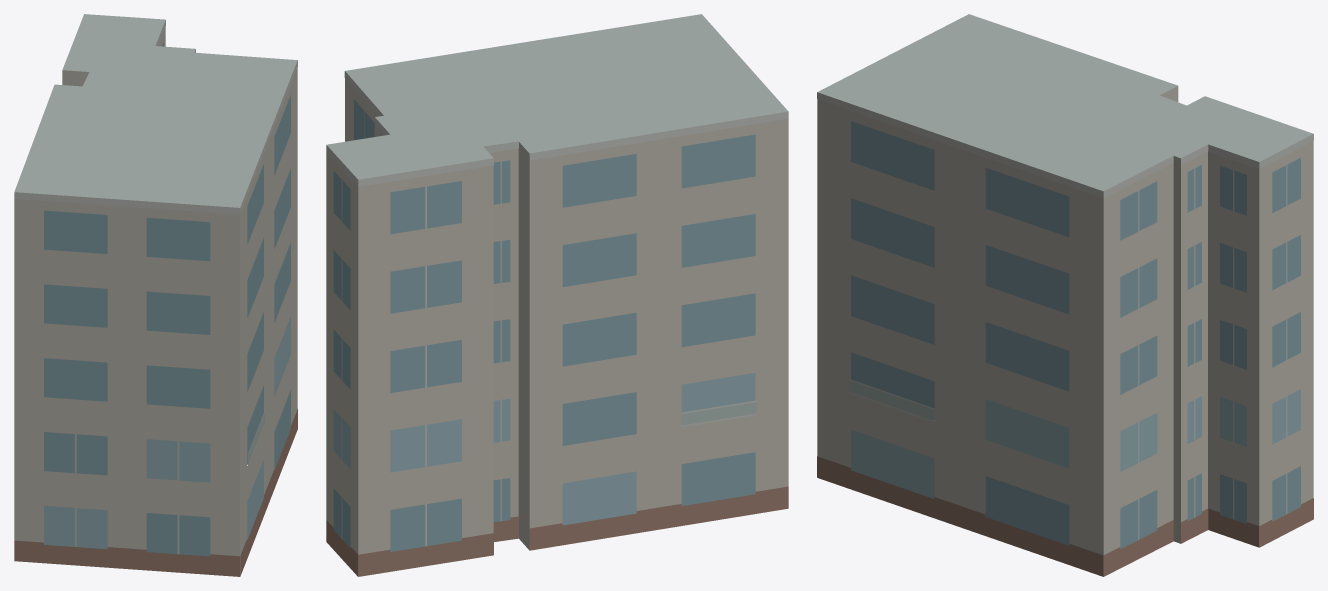
File: survey-upis-32964051.glb
3 views of the same model, side by side, from view 1: azimuth 30°, elevation 25°; view 2: azimuth 150°, elevation 25°; view 3: azimuth 270°, elevation 25° (orthographic). The views are drawn at different scales.
Visible parts, largest first — view 1: survey-upis-32964051.tmp; view 2: survey-upis-32964051.tmp; view 3: survey-upis-32964051.tmp.
Boxes of the visible parts, bbox=[...] form: survey-upis-32964051.tmp: bbox=[14, 14, 297, 576]; survey-upis-32964051.tmp: bbox=[326, 14, 788, 576]; survey-upis-32964051.tmp: bbox=[817, 14, 1313, 576].
Size of the model in its own units: 13.43 by 13.6 by 15.89.
